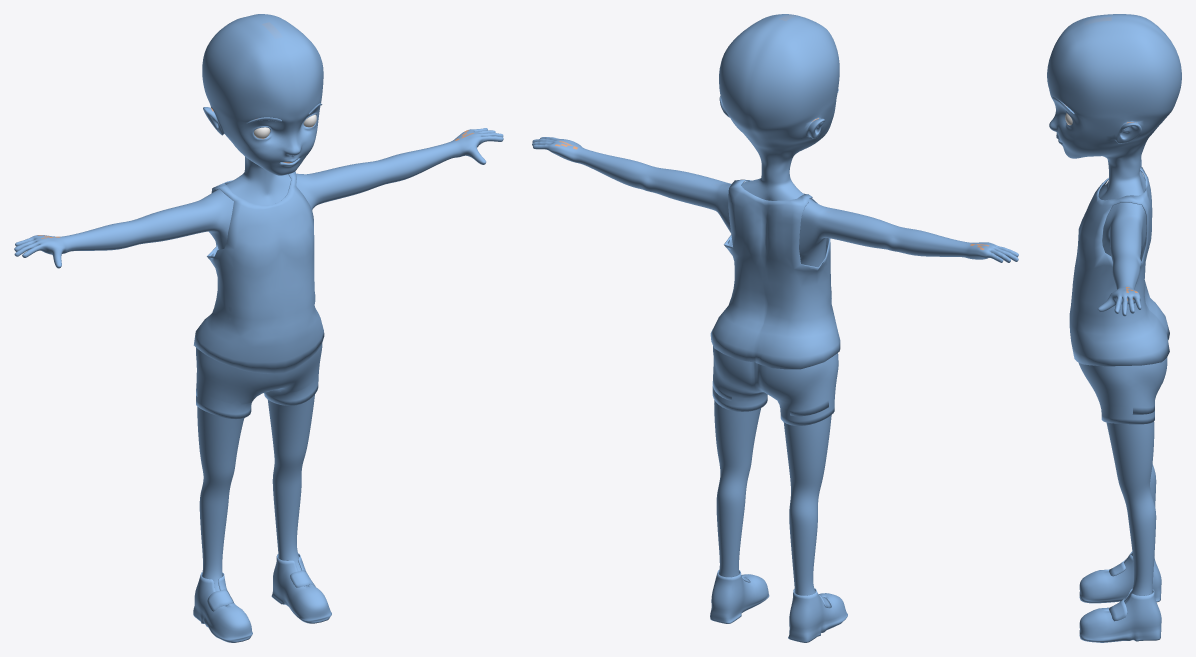
Rendered from perso.FBX.
3 renders of one model, left to right at view 1: azimuth 30°, elevation 25°; view 2: azimuth 150°, elevation 25°; view 3: azimuth 270°, elevation 25°, orthographic.
Parts seen in each view (by area): view 1: anime boy hair; view 2: anime boy hair; view 3: anime boy hair.
Part boxes in pixels (x1,y1,x2,y2): anime boy hair: [14, 14, 503, 642]; anime boy hair: [532, 14, 1018, 642]; anime boy hair: [1047, 14, 1181, 642].
Bounding box in the file's own units: 118 × 138 × 28.16.
